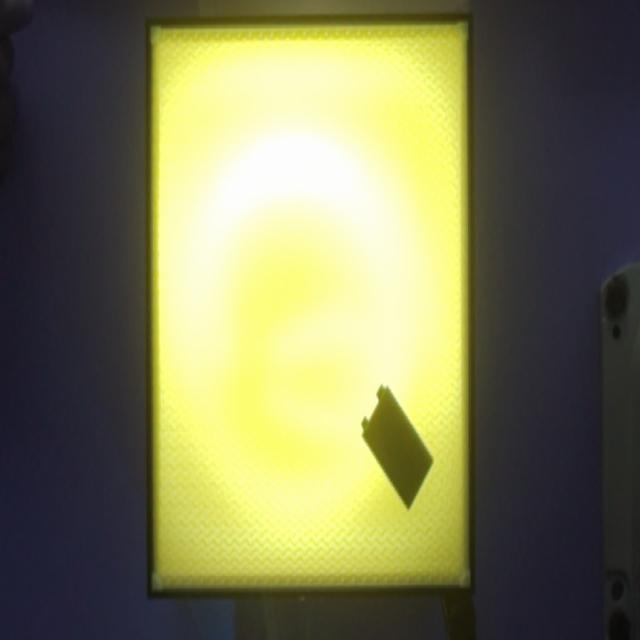bateria: (360, 384, 434, 509)
mesa: (146, 13, 474, 600)
